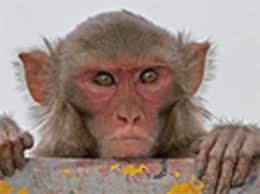monkey: (24, 13, 226, 161)
